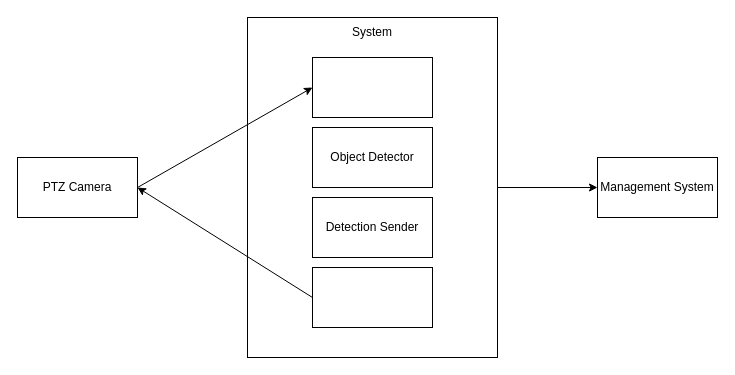
This 735x375 diagram has some shape labels left out. Each missing label, with the box of its shape:
Device Controller: (312, 266, 432, 328)
Video Capture: (312, 56, 432, 118)
